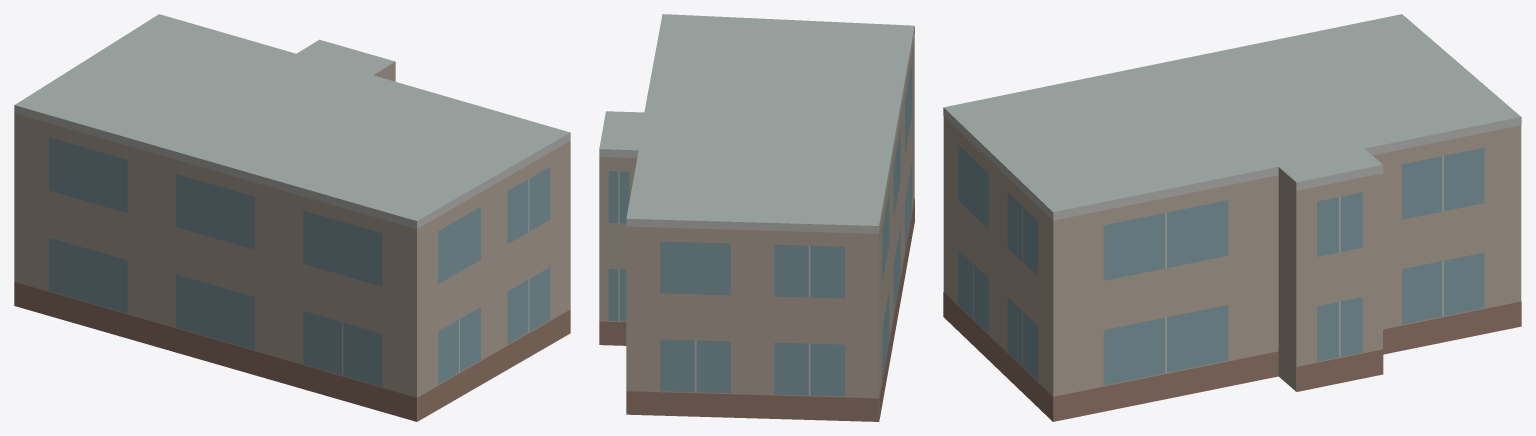
The model's file is survey-upis-33007651.glb.
3 views of the same model, side by side, from view 1: azimuth 30°, elevation 25°; view 2: azimuth 150°, elevation 25°; view 3: azimuth 270°, elevation 25° (orthographic). The views are drawn at different scales.
Parts seen in each view (by area): view 1: survey-upis-33007651.tmp; view 2: survey-upis-33007651.tmp; view 3: survey-upis-33007651.tmp.
Boxes of the visible parts, x1,y1,x2,y2 form: survey-upis-33007651.tmp: (14, 14, 570, 421); survey-upis-33007651.tmp: (599, 14, 914, 421); survey-upis-33007651.tmp: (943, 14, 1521, 421).
Bounding box in the file's own units: 12.39 × 6.1 × 15.25.
